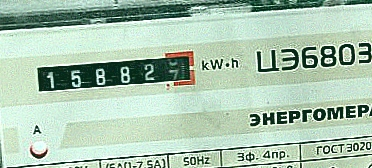1: (43, 68, 56, 88)
2: (142, 61, 155, 80)
5: (68, 67, 81, 87)
7: (167, 66, 179, 81)
8: (93, 64, 106, 86), (118, 63, 131, 85)
screen: (27, 44, 205, 100)
